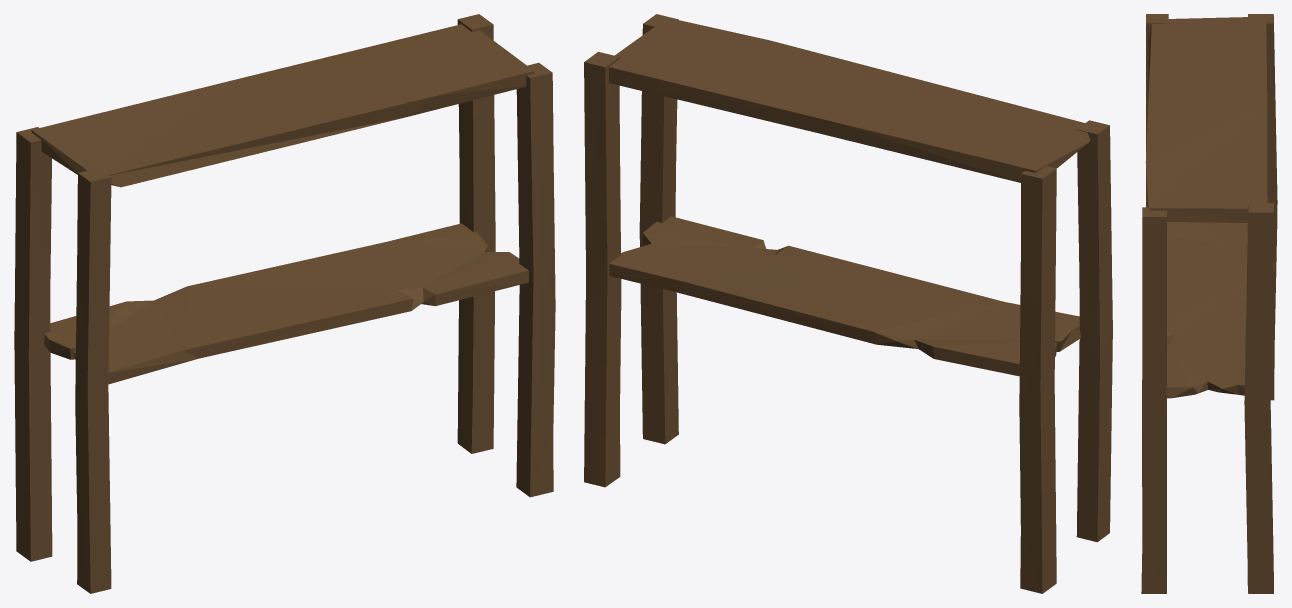
Rendered from Mesh_Props_Shelving_StandingFix_01.obj.
3 renders of one model, left to right at view 1: azimuth 30°, elevation 25°; view 2: azimuth 150°, elevation 25°; view 3: azimuth 270°, elevation 25°, orthographic. The views are drawn at different scales.
Visible parts, largest first — view 1: Mesh_Props_Shelving_StandingFix_01_M_LowPolyFarm_MAIN; view 2: Mesh_Props_Shelving_StandingFix_01_M_LowPolyFarm_MAIN; view 3: Mesh_Props_Shelving_StandingFix_01_M_LowPolyFarm_MAIN.
Boxes of the visible parts, box(x1,y1,x2,y2) form: Mesh_Props_Shelving_StandingFix_01_M_LowPolyFarm_MAIN: box(14, 14, 555, 593); Mesh_Props_Shelving_StandingFix_01_M_LowPolyFarm_MAIN: box(584, 14, 1112, 593); Mesh_Props_Shelving_StandingFix_01_M_LowPolyFarm_MAIN: box(1141, 14, 1277, 593).
Bounding box in the file's own units: 1.12 × 0.9714 × 0.3141.
